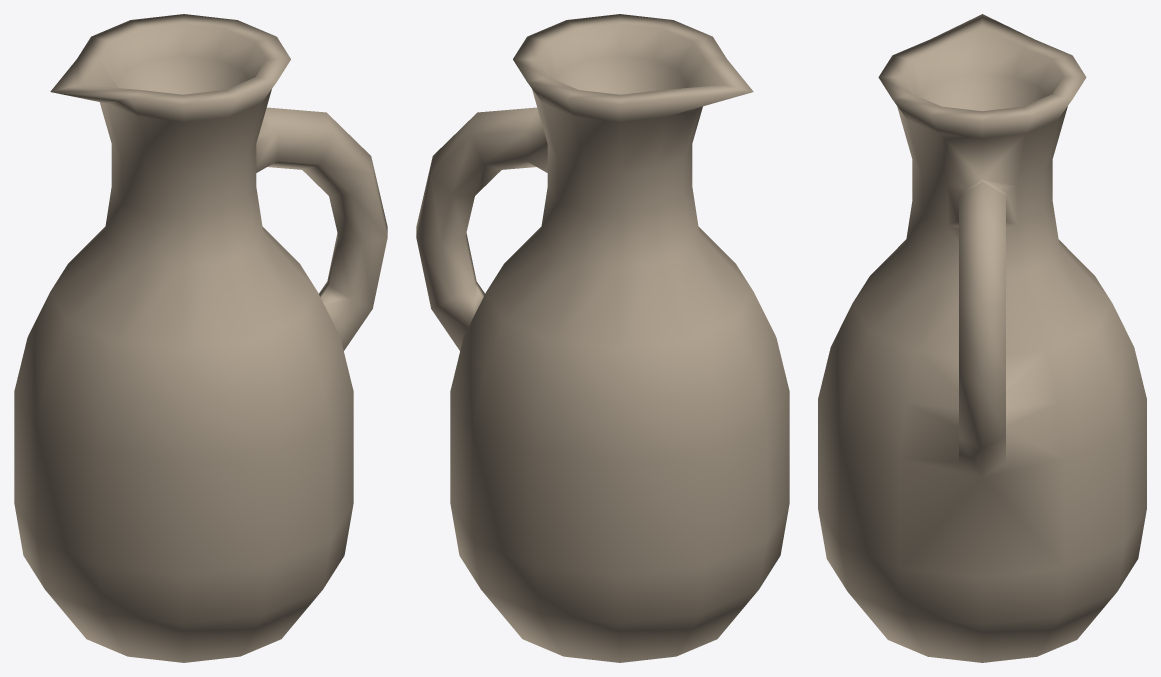
Rendered from Jug.fbx.
3 renders of one model, left to right at view 1: azimuth 30°, elevation 25°; view 2: azimuth 150°, elevation 25°; view 3: azimuth 270°, elevation 25°, orthographic. The views are drawn at different scales.
Parts seen in each view (by area): view 1: Jug; view 2: Jug; view 3: Jug.
Part boxes in pixels (x1=…): Jug: x1=14, y1=14, x2=387, y2=662; Jug: x1=416, y1=14, x2=789, y2=662; Jug: x1=818, y1=14, x2=1146, y2=662.
Size of the model in its own units: 359 by 545 by 301.
